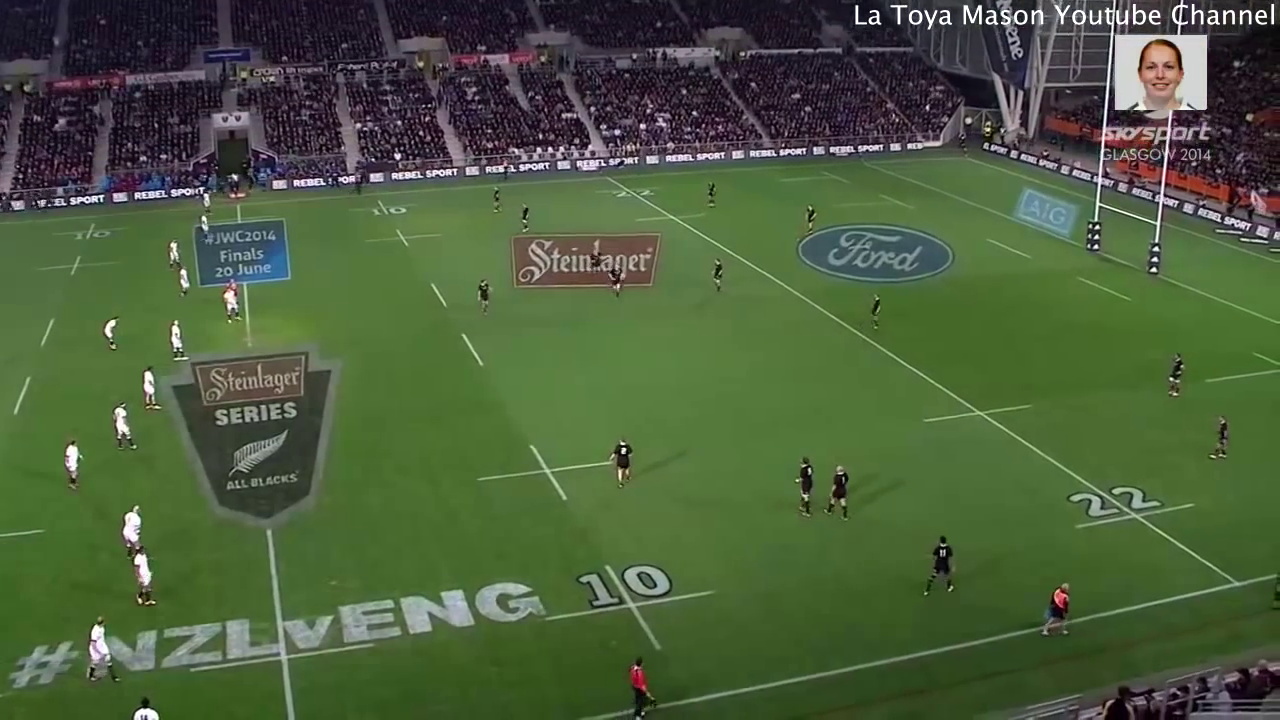10_metre: (534, 553, 729, 653), (468, 438, 631, 505), (361, 226, 448, 252), (36, 253, 125, 278), (50, 220, 130, 240), (348, 197, 423, 218)
player: (74, 608, 126, 689), (917, 533, 959, 599), (123, 539, 160, 612), (1037, 578, 1073, 641), (817, 457, 849, 524), (787, 452, 819, 517), (625, 655, 657, 720), (115, 499, 147, 559), (108, 400, 141, 457), (134, 363, 167, 418), (607, 436, 637, 493), (60, 436, 86, 496), (164, 313, 193, 365), (1209, 407, 1233, 465), (219, 284, 249, 326), (1165, 348, 1187, 404), (97, 313, 124, 354), (707, 253, 730, 300), (471, 275, 496, 318), (604, 260, 629, 302), (130, 691, 161, 720), (865, 290, 885, 331), (162, 238, 184, 273), (798, 200, 821, 233), (490, 182, 507, 219), (177, 264, 194, 301), (703, 176, 719, 214), (587, 242, 604, 277), (516, 201, 531, 234), (196, 211, 212, 241), (219, 276, 243, 296), (199, 191, 214, 216)
post: (1073, 1, 1189, 283)
